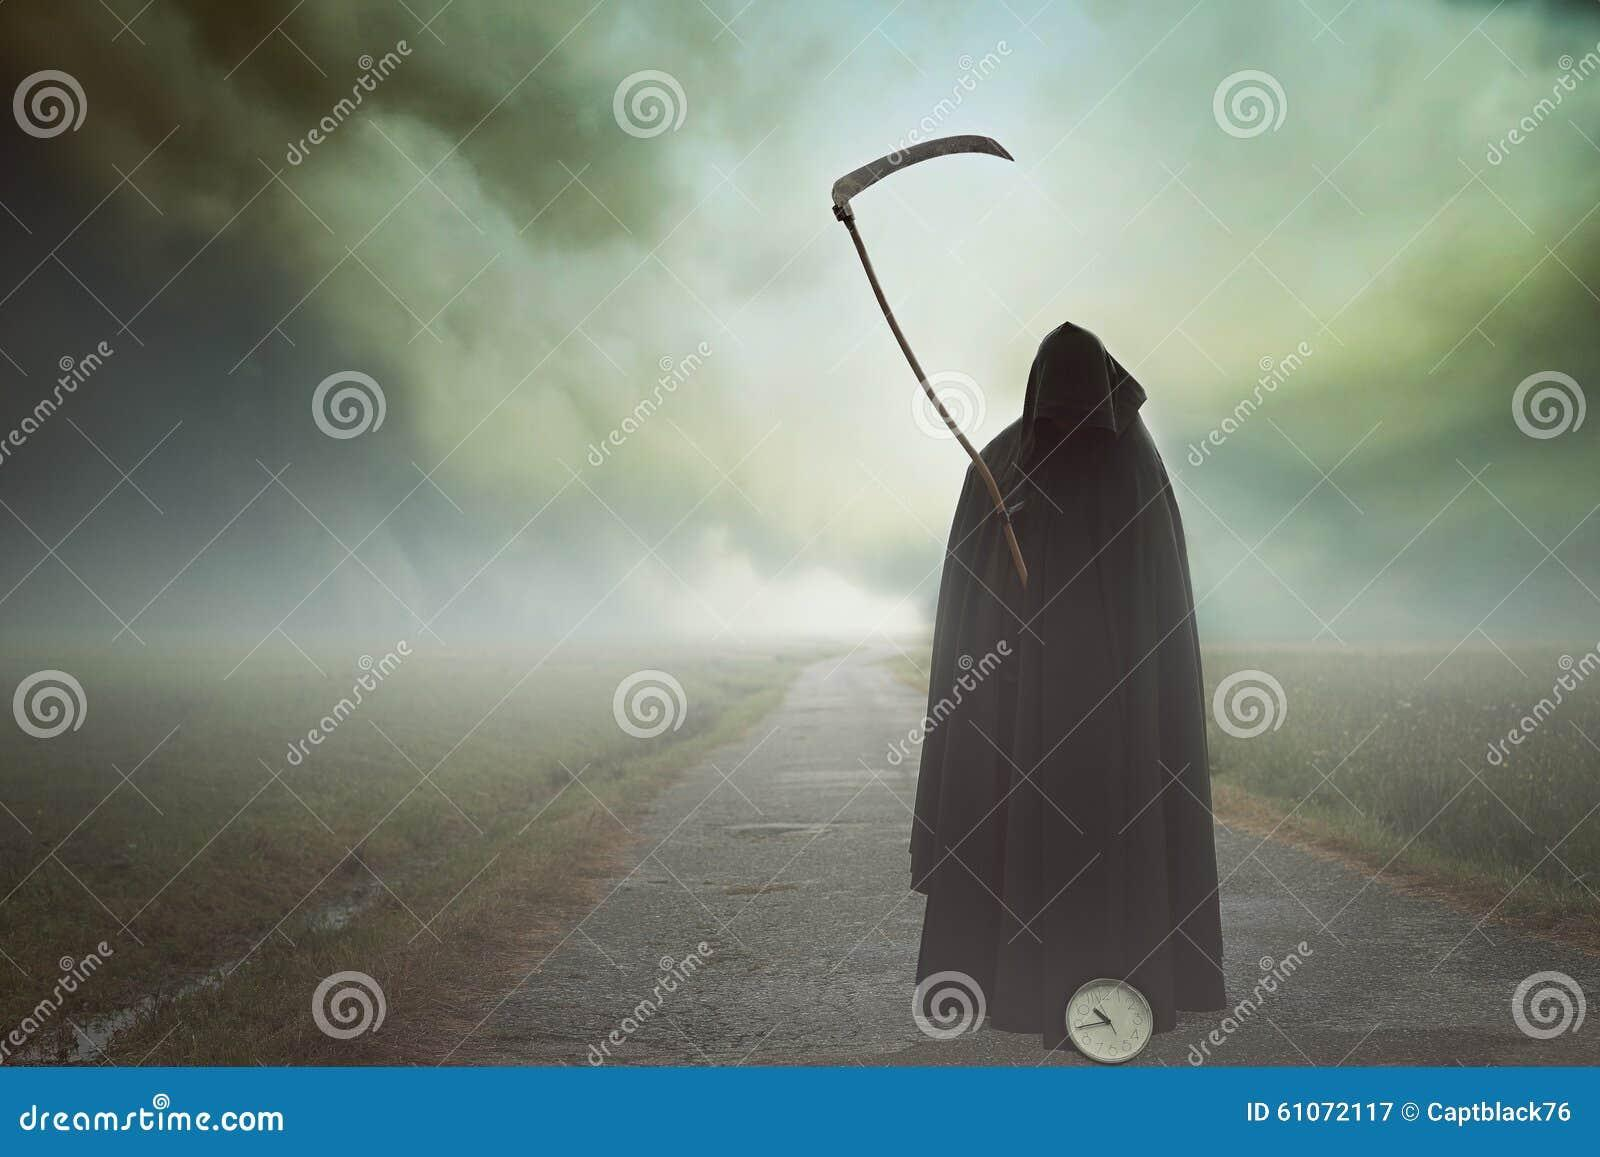foice: (832, 135, 1026, 580)
